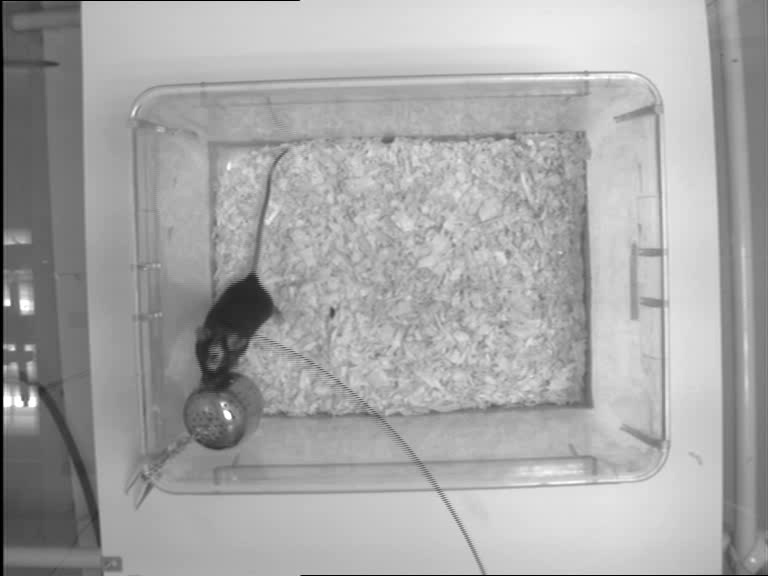mice: (192, 147, 290, 387)
